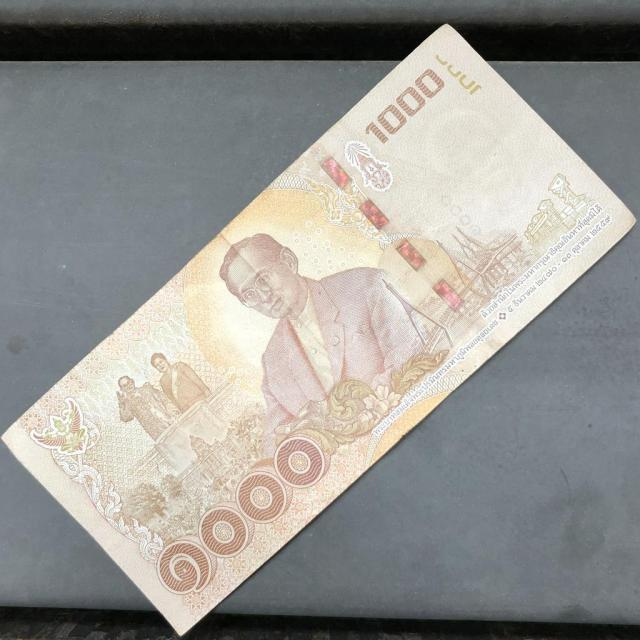THAI1000: (2, 25, 634, 633)
